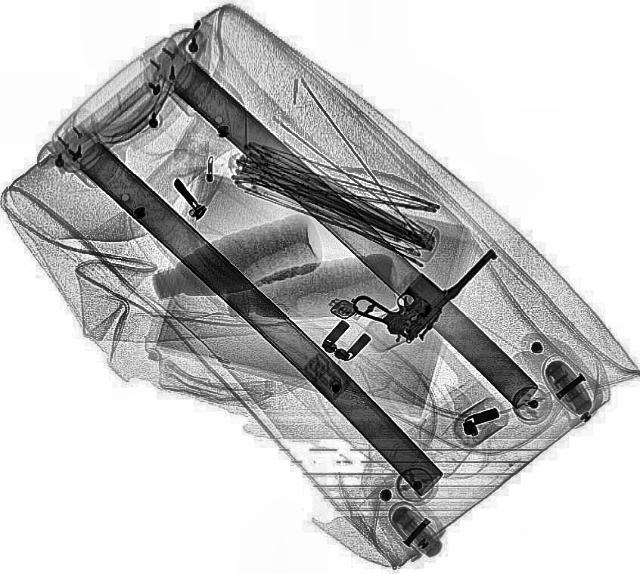Gun: (345, 214, 501, 350)
